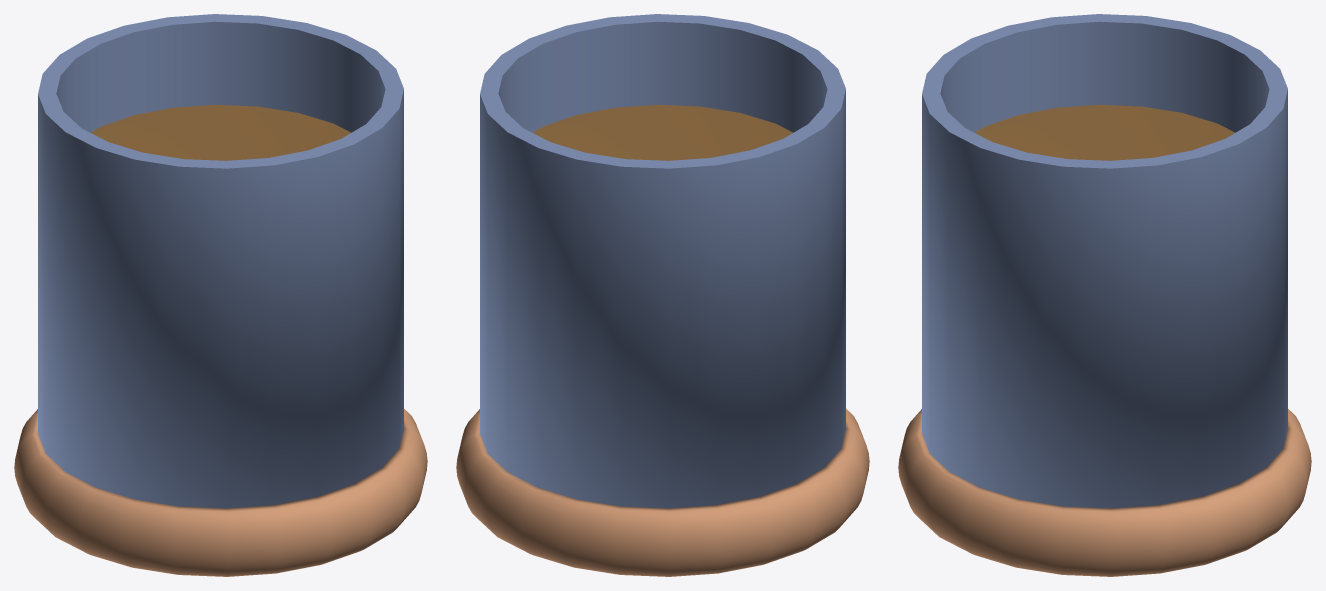
3 renders of one model, left to right at view 1: azimuth 30°, elevation 25°; view 2: azimuth 150°, elevation 25°; view 3: azimuth 270°, elevation 25°, orthographic.
Parts seen in each view (by area): view 1: mesh1_mesh1-geometry_3, mesh1_mesh1-geometry_2, mesh1_mesh1-geometry_4; view 2: mesh1_mesh1-geometry_3, mesh1_mesh1-geometry_2, mesh1_mesh1-geometry_4; view 3: mesh1_mesh1-geometry_3, mesh1_mesh1-geometry_2, mesh1_mesh1-geometry_4.
Boxes of the visible parts, box(x1,y1,x2,y2) form: mesh1_mesh1-geometry_3: box(38, 14, 403, 508); mesh1_mesh1-geometry_2: box(14, 409, 427, 576); mesh1_mesh1-geometry_4: box(91, 104, 350, 160); mesh1_mesh1-geometry_3: box(480, 14, 845, 508); mesh1_mesh1-geometry_2: box(456, 409, 869, 576); mesh1_mesh1-geometry_4: box(533, 104, 792, 160); mesh1_mesh1-geometry_3: box(922, 14, 1287, 508); mesh1_mesh1-geometry_2: box(898, 409, 1311, 576); mesh1_mesh1-geometry_4: box(975, 104, 1234, 160).
Bounding box in the file's own units: 0.5608 × 0.6091 × 0.5608.
